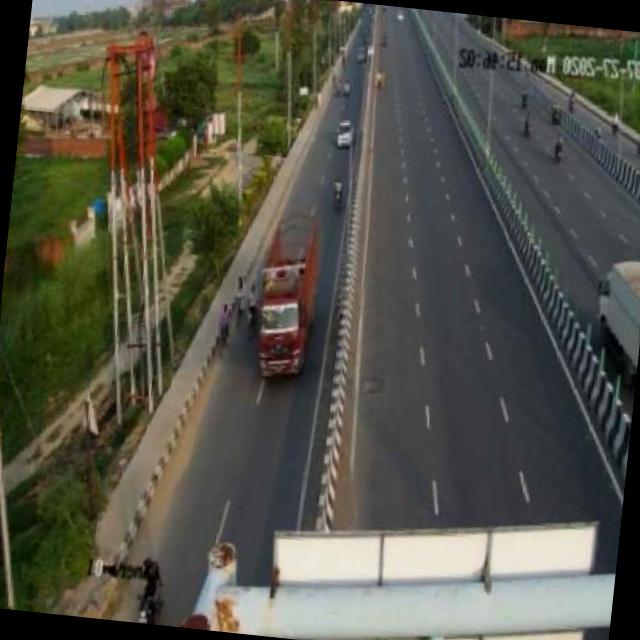car: (331, 114, 360, 148)
